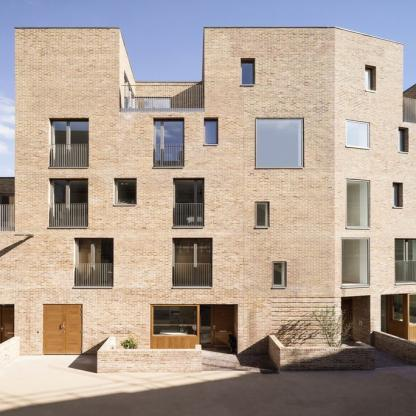Balcony: (122, 86, 203, 112), (0, 205, 14, 231)
Building Outline: (0, 26, 416, 374)
Door: (43, 305, 82, 355), (213, 304, 238, 346), (0, 307, 14, 353)
Facade: (0, 25, 336, 375)
Floor Slab: (0, 288, 335, 294), (15, 111, 335, 117), (15, 168, 335, 174), (0, 232, 335, 237)
Window: (255, 119, 303, 168), (175, 240, 212, 287), (52, 181, 88, 227), (77, 240, 113, 286), (53, 122, 89, 167), (174, 180, 204, 225), (153, 306, 198, 335), (156, 121, 184, 166), (134, 98, 171, 117), (117, 181, 137, 204), (1, 195, 14, 227), (200, 304, 210, 344), (204, 119, 218, 145), (241, 61, 255, 84), (274, 263, 286, 286), (257, 204, 269, 227)
